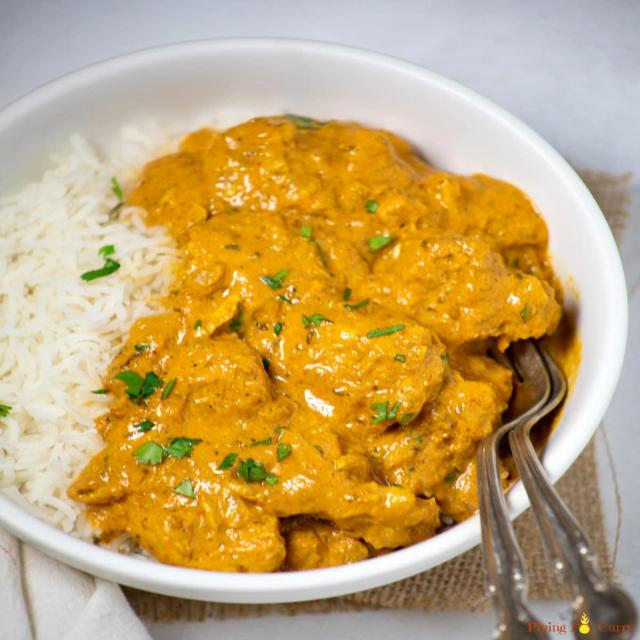chicken: (148, 89, 544, 566)
rice: (0, 146, 131, 562)
